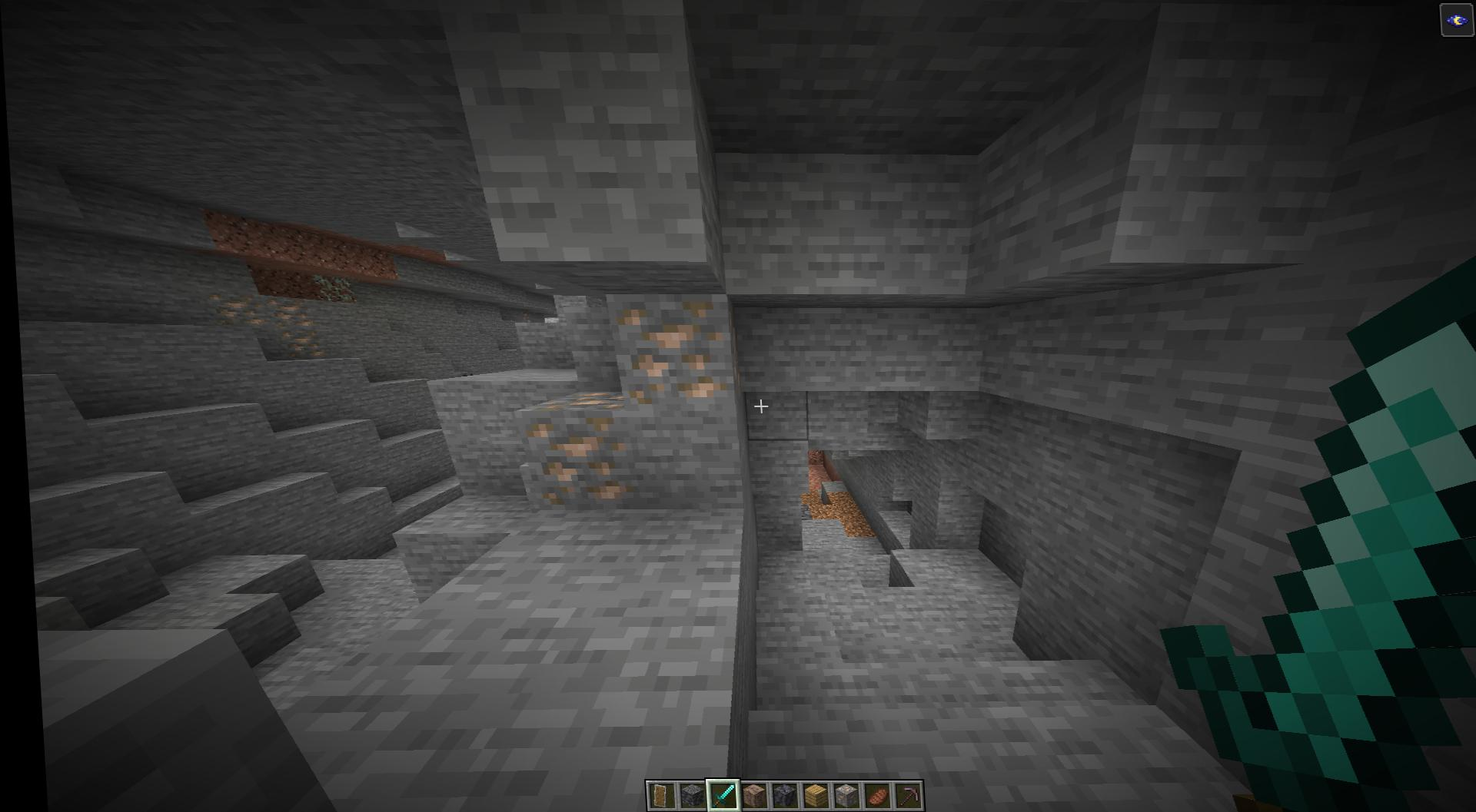iron ore: (612, 284, 729, 401), (511, 416, 634, 511), (209, 293, 265, 333), (269, 323, 321, 359), (263, 296, 305, 330)
